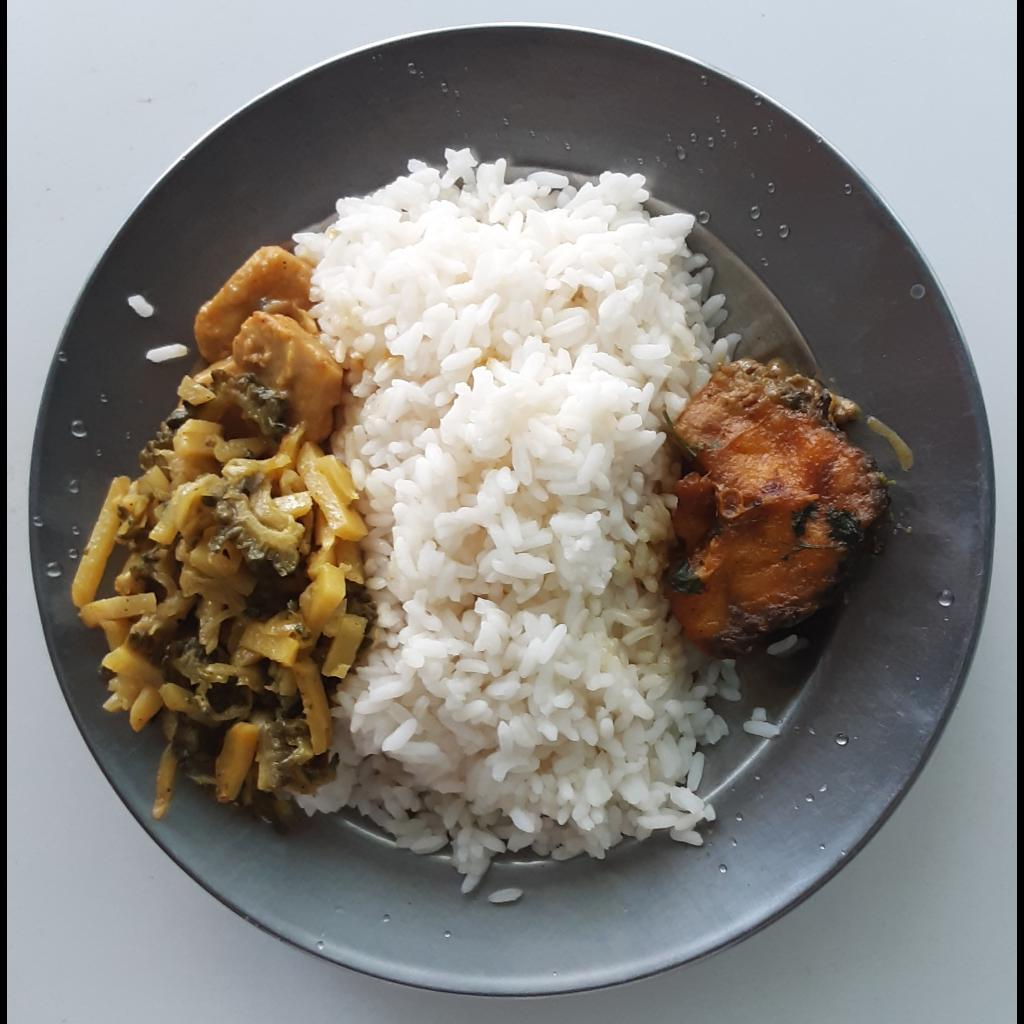fish: (666, 351, 890, 654)
kochu: (190, 251, 364, 442)
korola-vaji: (72, 298, 375, 818)
rice: (295, 145, 738, 906), (144, 341, 186, 362), (134, 290, 152, 315)
